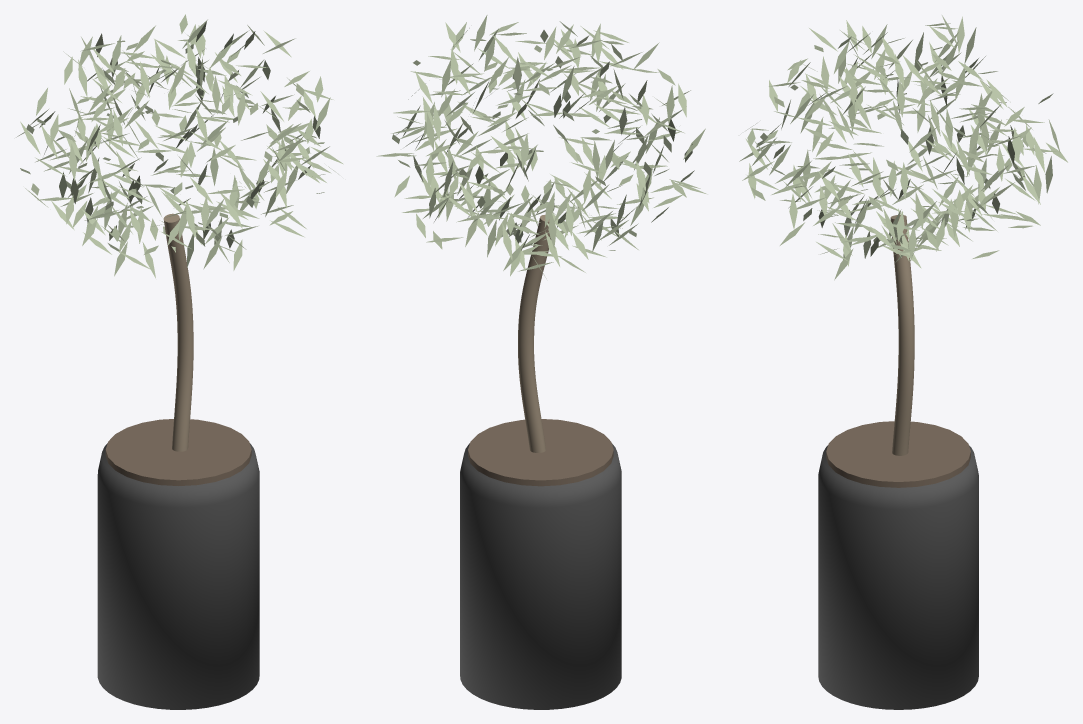
Rendered from it_planter_olive.glb.
3 views of the same model, side by side, from view 1: azimuth 30°, elevation 25°; view 2: azimuth 150°, elevation 25°; view 3: azimuth 270°, elevation 25° (orthographic).
Visible parts, largest first — view 1: pot, canopy, soil, trunk; view 2: pot, canopy, soil, trunk; view 3: pot, canopy, soil, trunk.
Boxes of the visible parts, left/top/right/bottom form: pot: left=97, top=443, right=259, bottom=709; canopy: left=16, top=14, right=343, bottom=278; soil: left=105, top=419, right=251, bottom=485; trunk: left=163, top=213, right=193, bottom=451; pot: left=460, top=443, right=621, bottom=709; canopy: left=376, top=15, right=707, bottom=278; soil: left=468, top=419, right=613, bottom=486; trunk: left=518, top=214, right=551, bottom=452; pot: left=818, top=445, right=978, bottom=709; canopy: left=739, top=15, right=1067, bottom=280; soil: left=826, top=421, right=970, bottom=487; trunk: left=890, top=215, right=914, bottom=455.
Bounding box in the file's own units: 0.8264 × 1.76 × 0.8241.
